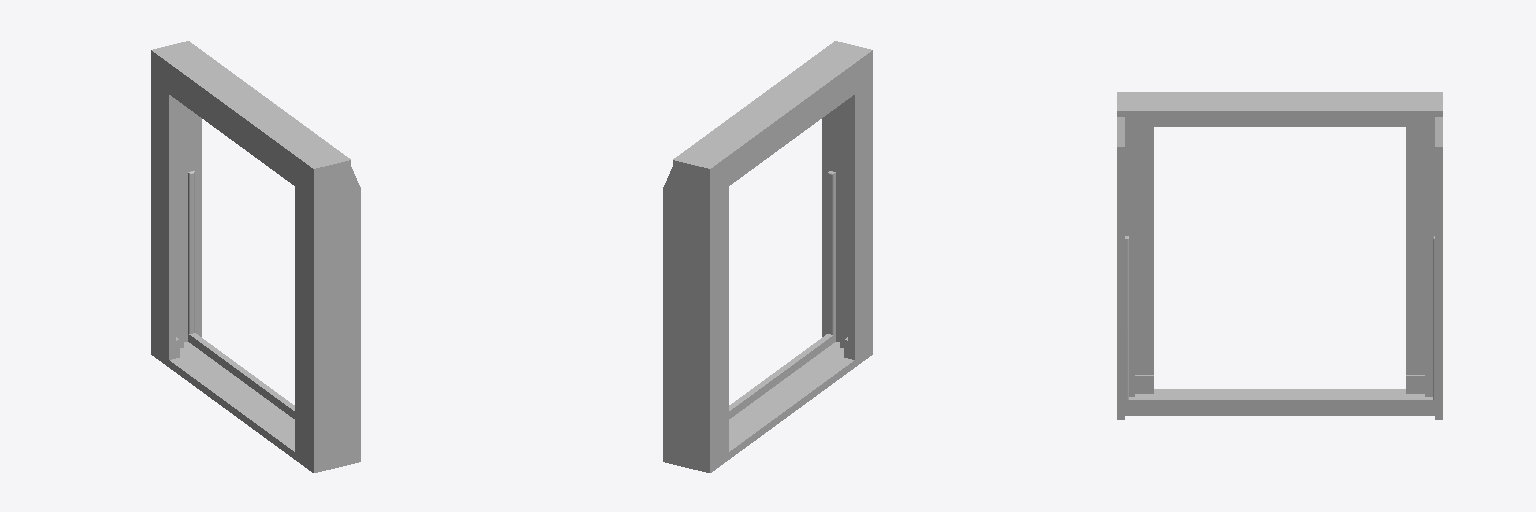
The model's file is Prints_led_cap.obj.
3 renders of one model, left to right at view 1: azimuth 30°, elevation 25°; view 2: azimuth 150°, elevation 25°; view 3: azimuth 270°, elevation 25°, orthographic.
Parts seen in each view (by area): view 1: led_cap; view 2: led_cap; view 3: led_cap.
Part boxes in pixels (bbox=[...]): led_cap: bbox=[151, 41, 360, 472]; led_cap: bbox=[663, 41, 872, 472]; led_cap: bbox=[1117, 92, 1442, 419].
Size of the model in its own units: 0.0094 by 0.0574 by 0.0557.